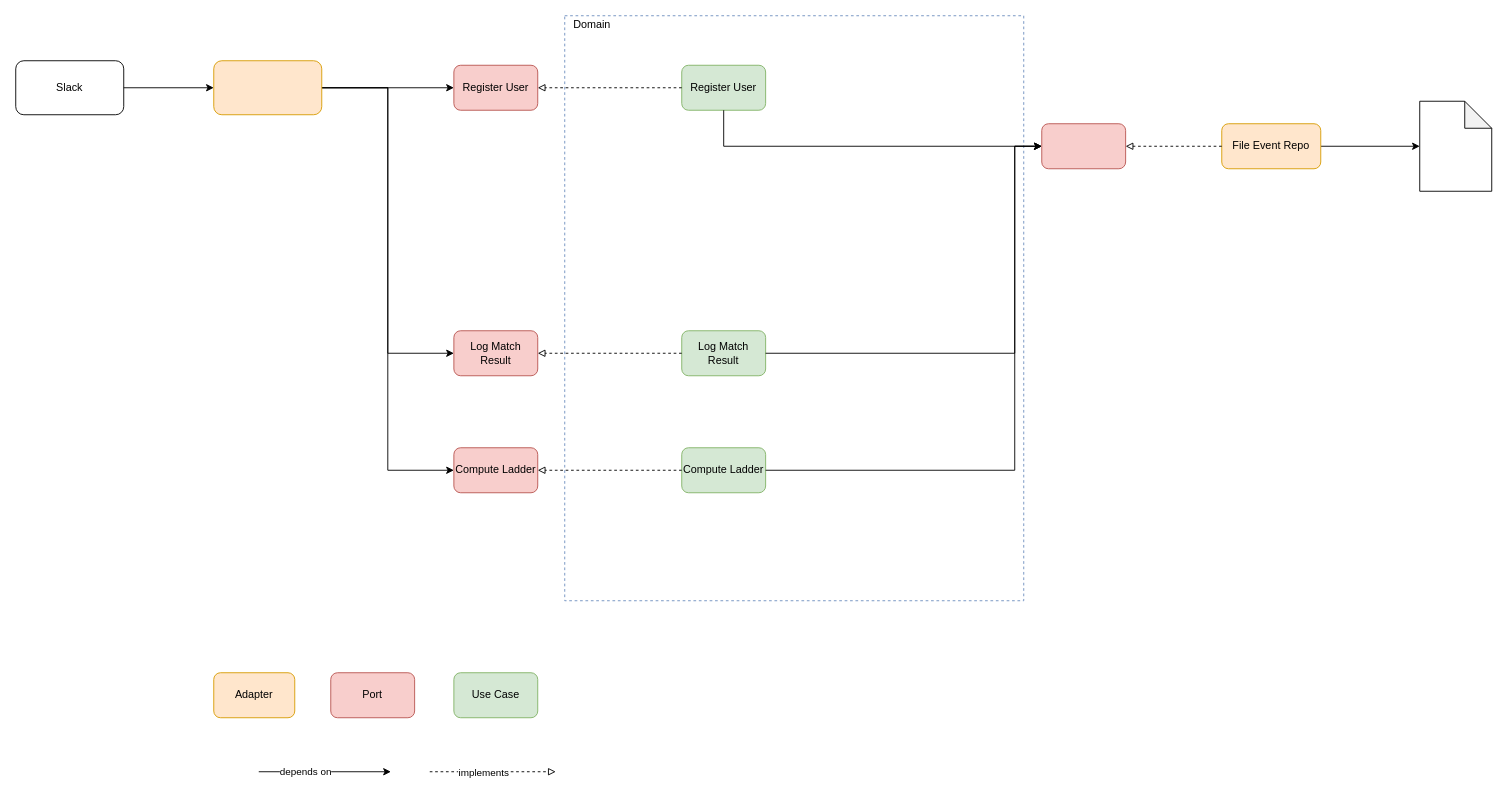
This 1508x795 diagram has some shape labels left out. The centre of each missing label's shape, as x and y in pixels:
"Event Repo" belongs at (1083,146).
"events.json (file)" belongs at (1455,145).
"Slack Command Listener (HTTP Server)" belongs at (267,87).
